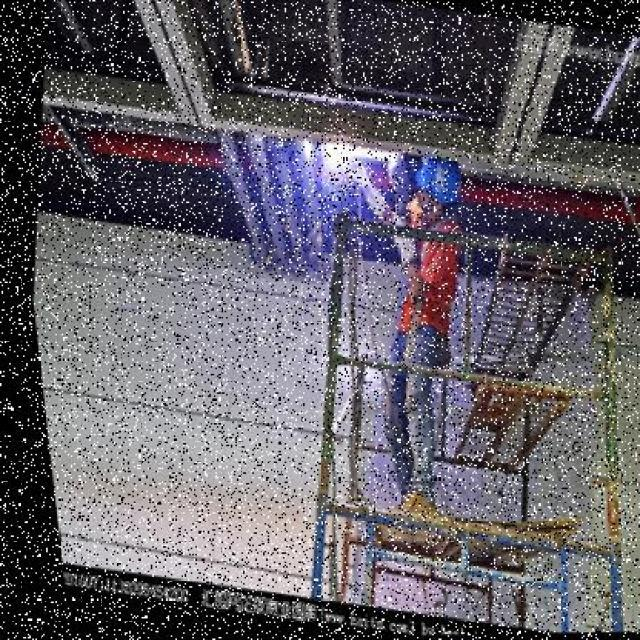helmet: (405, 143, 467, 203)
